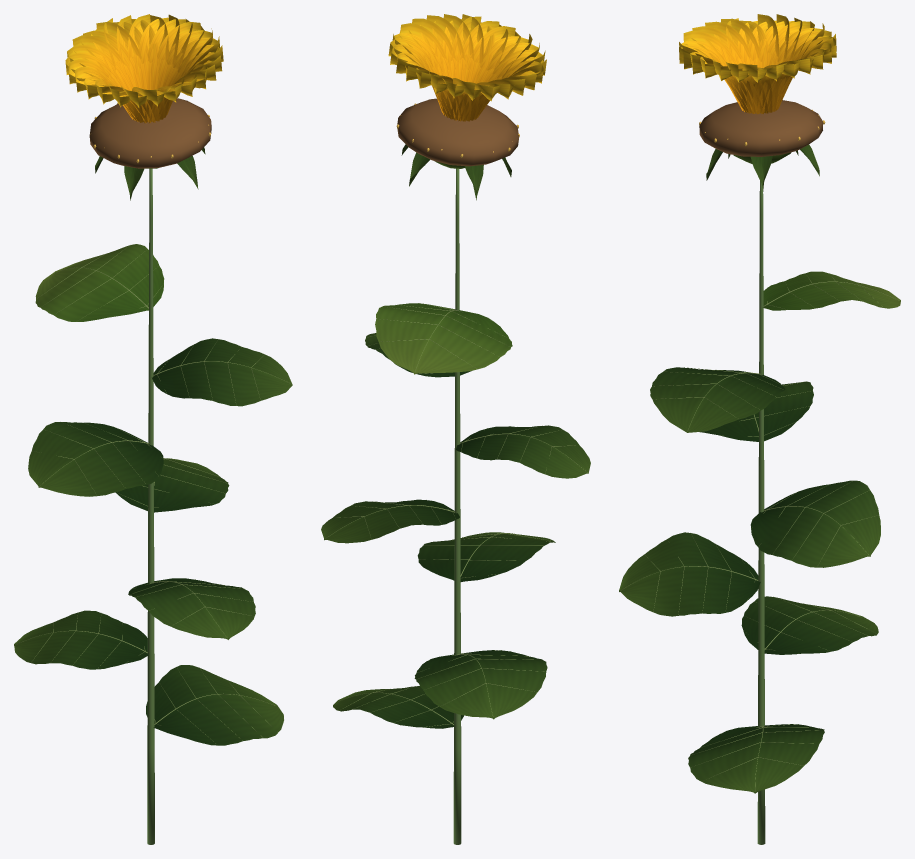
The model's file is sunflower-09.glb.
The picture shows the model from 3 angles, left to right: view 1: azimuth 30°, elevation 25°; view 2: azimuth 150°, elevation 25°; view 3: azimuth 270°, elevation 25°; orthographic projection.
Visible parts, largest first — view 1: sunflower_stage_09_leaf_veins.016, sunflower_stage_09_sunflower_petal.016, sunflower_stage_09_young_leaf.016, sunflower_stage_09_receptacle.016, sunflower_stage_09_stem_fibres.016, sunflower_stage_09_raised_midveins.016; view 2: sunflower_stage_09_leaf_veins.016, sunflower_stage_09_sunflower_petal.016, sunflower_stage_09_young_leaf.016, sunflower_stage_09_receptacle.016, sunflower_stage_09_stem_fibres.016, sunflower_stage_09_raised_midveins.016; view 3: sunflower_stage_09_leaf_veins.016, sunflower_stage_09_sunflower_petal.016, sunflower_stage_09_receptacle.016, sunflower_stage_09_young_leaf.016, sunflower_stage_09_stem_fibres.016, sunflower_stage_09_raised_midveins.016.
Boxes of the visible parts, box(x1,y1,x2,y2) form: sunflower_stage_09_leaf_veins.016: box(14, 147, 292, 745); sunflower_stage_09_sunflower_petal.016: box(65, 14, 223, 123); sunflower_stage_09_young_leaf.016: box(35, 168, 164, 321); sunflower_stage_09_receptacle.016: box(89, 98, 211, 168); sunflower_stage_09_stem_fibres.016: box(147, 168, 154, 844); sunflower_stage_09_raised_midveins.016: box(14, 251, 288, 743); sunflower_stage_09_leaf_veins.016: box(321, 144, 590, 728); sunflower_stage_09_sunflower_petal.016: box(388, 14, 546, 121); sunflower_stage_09_young_leaf.016: box(375, 161, 512, 374); sunflower_stage_09_receptacle.016: box(397, 98, 518, 166); sunflower_stage_09_stem_fibres.016: box(453, 168, 461, 844); sunflower_stage_09_raised_midveins.016: box(325, 303, 587, 727); sunflower_stage_09_leaf_veins.016: box(619, 144, 880, 793); sunflower_stage_09_sunflower_petal.016: box(679, 14, 836, 114); sunflower_stage_09_receptacle.016: box(699, 100, 822, 156); sunflower_stage_09_young_leaf.016: box(733, 152, 900, 310); sunflower_stage_09_stem_fibres.016: box(757, 181, 765, 844); sunflower_stage_09_raised_midveins.016: box(620, 274, 898, 791).
Size of the model in its own units: 0.287 by 0.8997 by 0.2848.
Materials: 7 (3 with a texture image).
